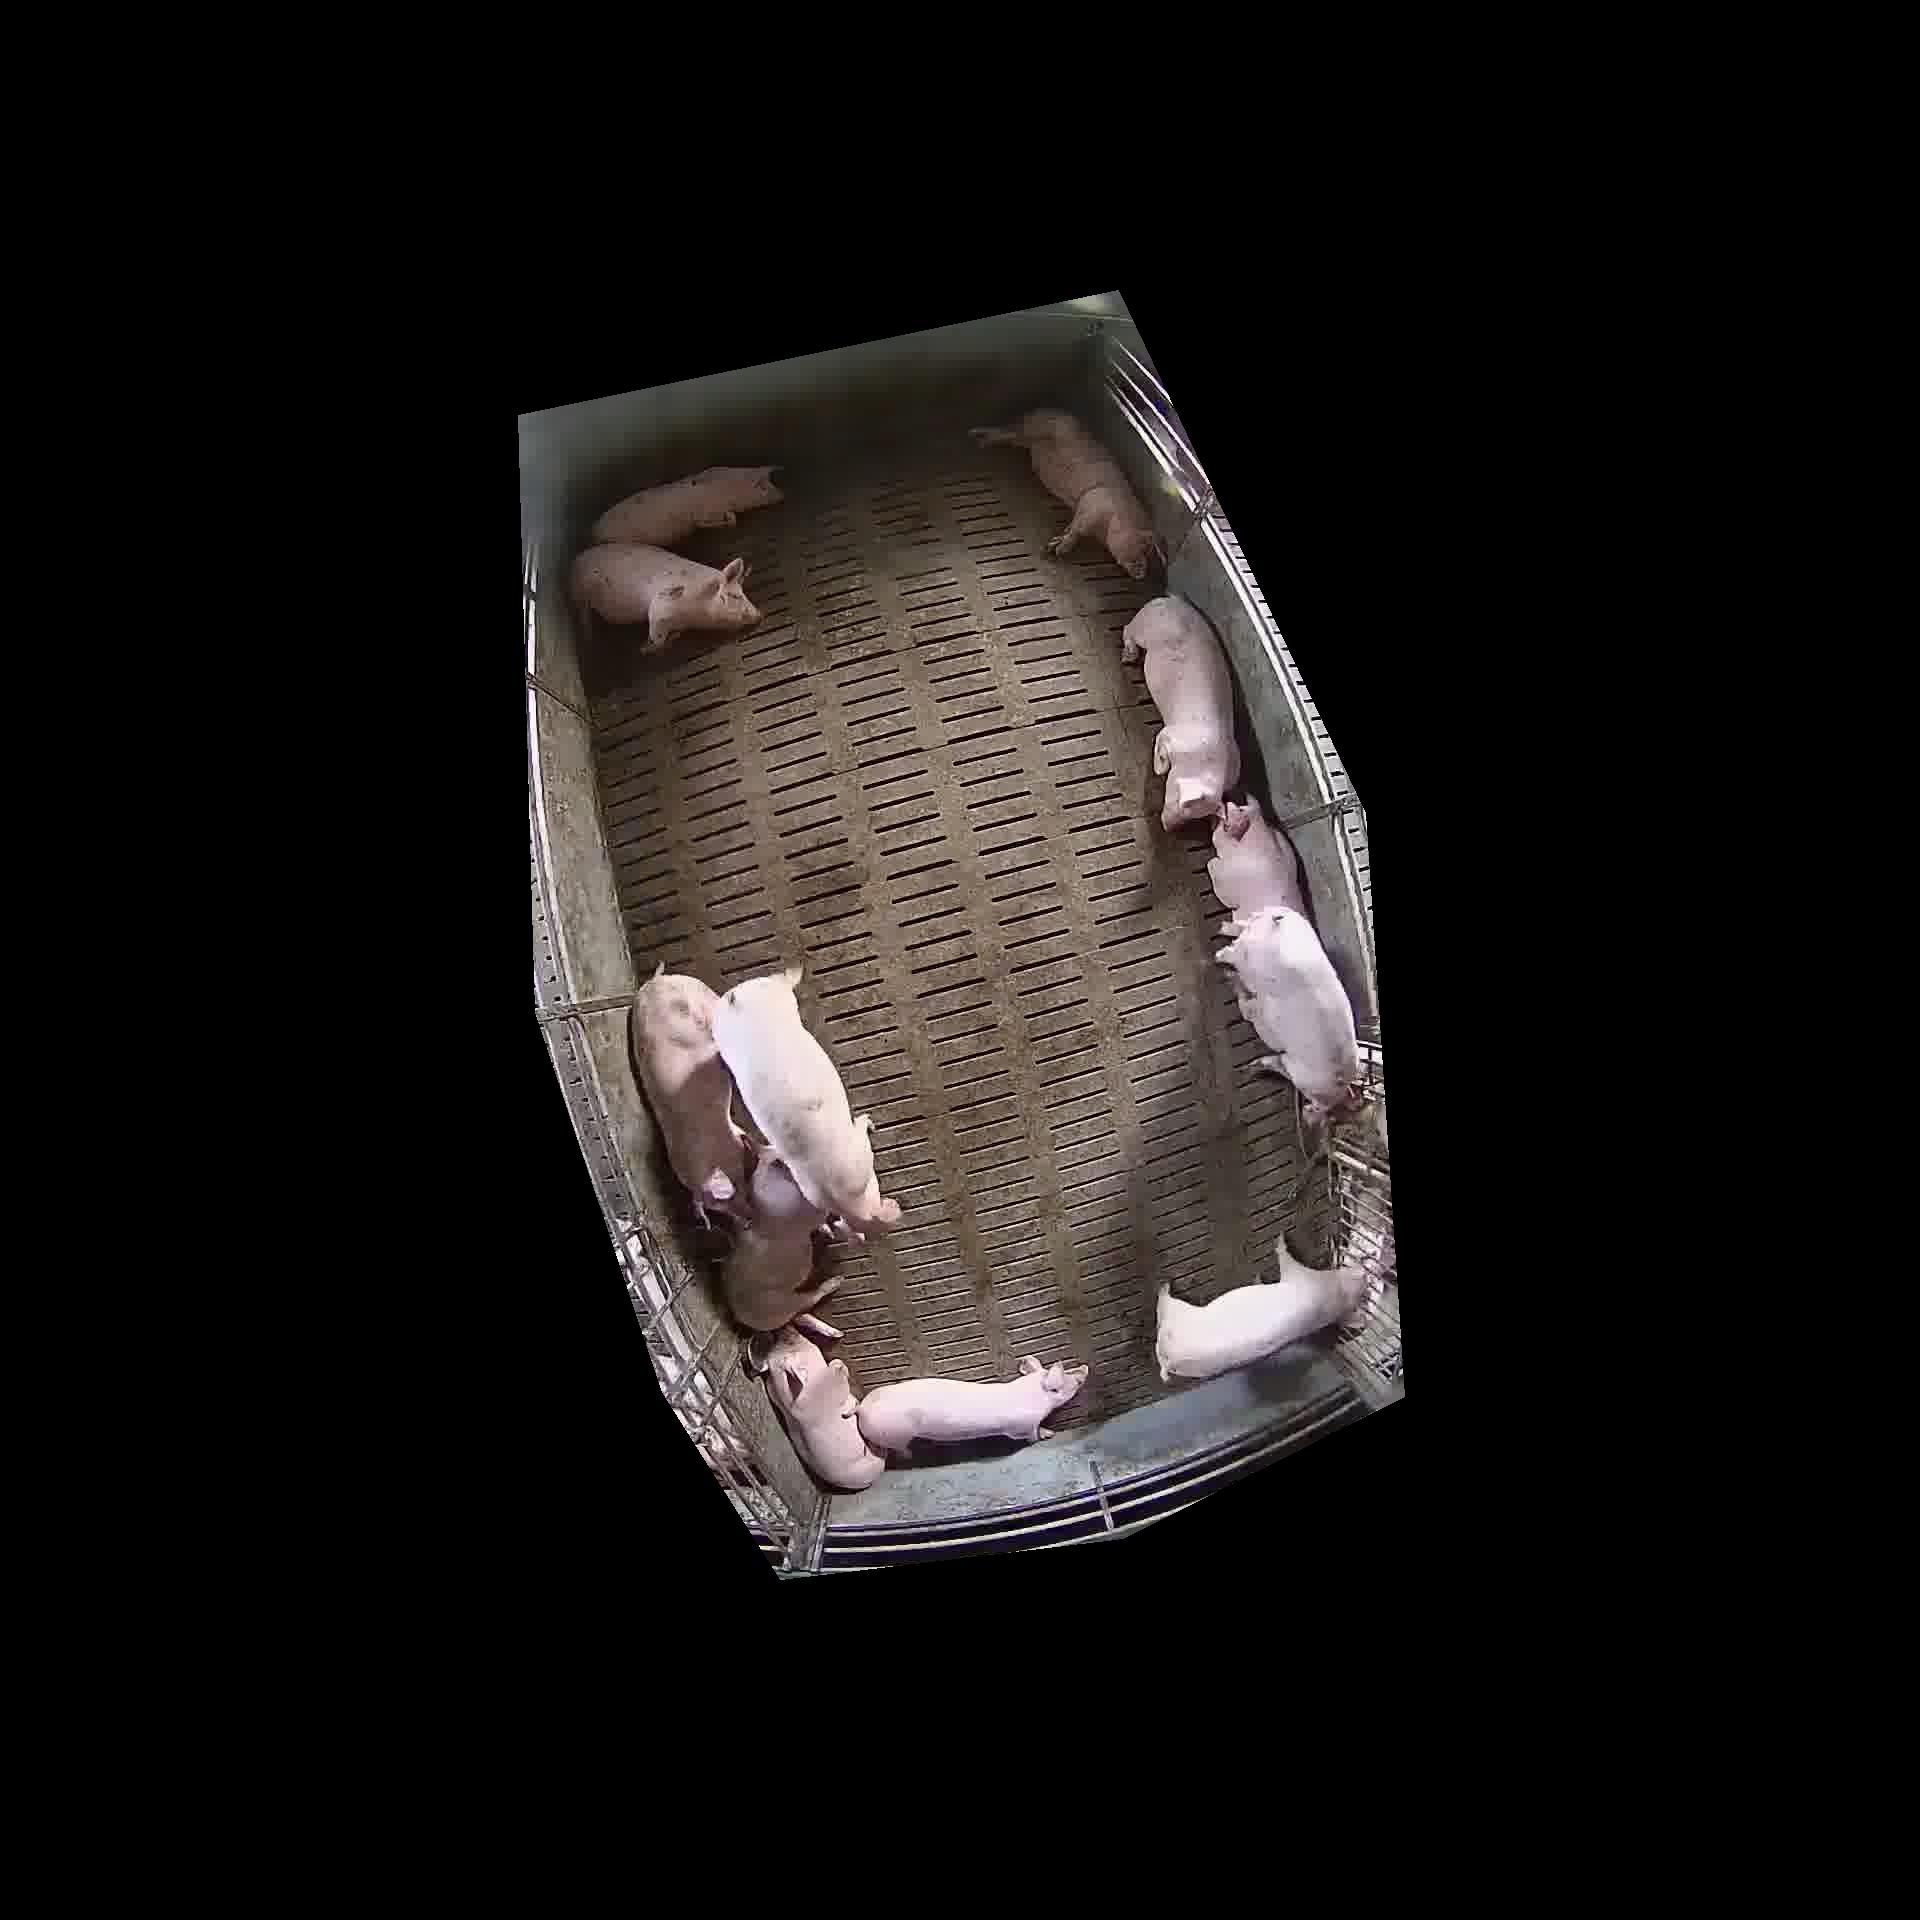pig: (714, 969, 898, 1234), (971, 410, 1155, 577), (1155, 1238, 1366, 1380), (1217, 905, 1359, 1115), (631, 971, 747, 1220), (1124, 594, 1240, 828), (721, 1148, 844, 1336), (856, 1356, 1088, 1452), (571, 543, 760, 652), (765, 1326, 884, 1489), (593, 466, 782, 547), (1208, 796, 1303, 914)
